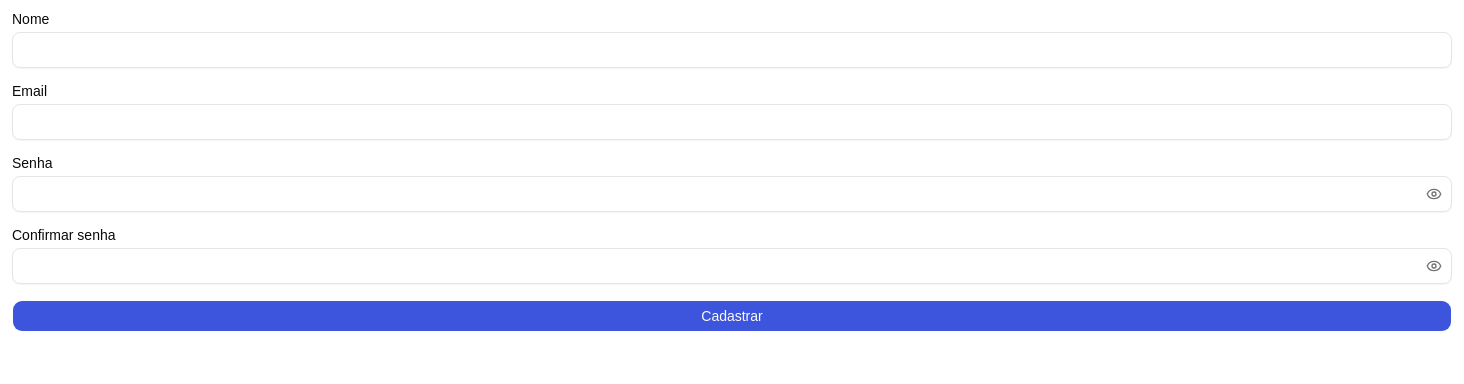
it: SignUpForm › mostra erro quando signUp falha
Type "a@a.com" into the field labelled "Email" at (732, 122), box x1=12 y1=104 x2=1452 y2=140
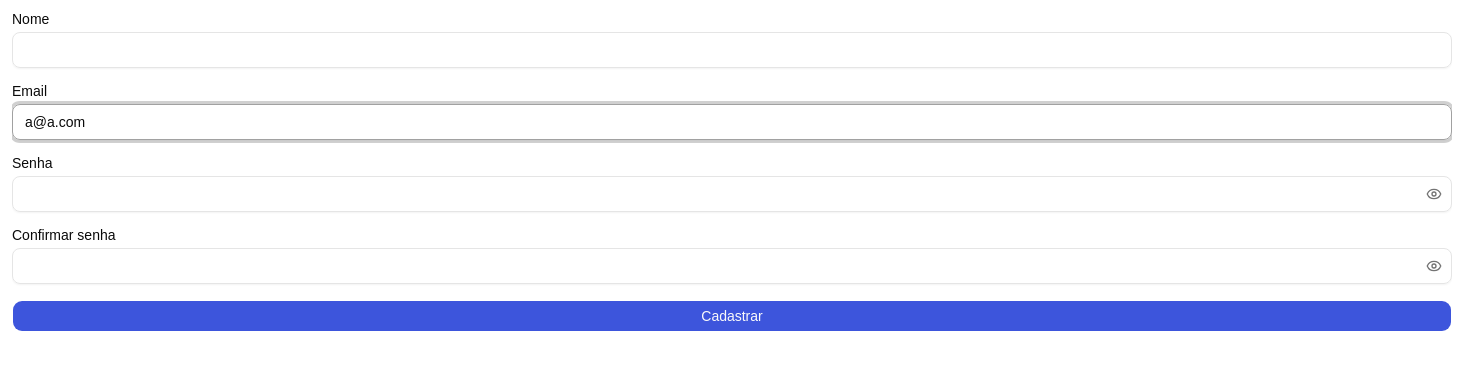
Type "123456" into the password field labelled "Senha" at (732, 194), box x1=12 y1=176 x2=1452 y2=212
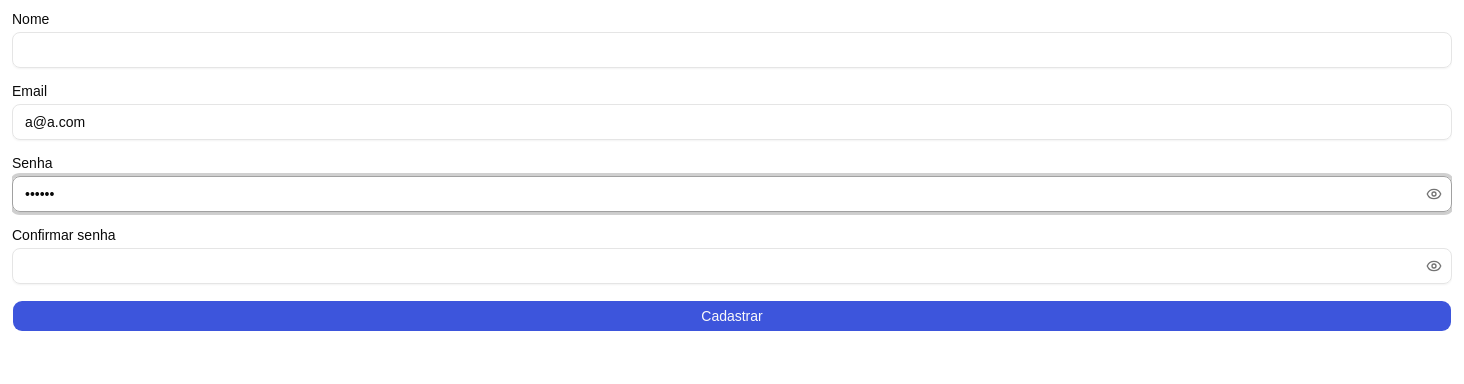
Type "123456" into the password field labelled "Confirmar senha" at (732, 266), box x1=12 y1=248 x2=1452 y2=284
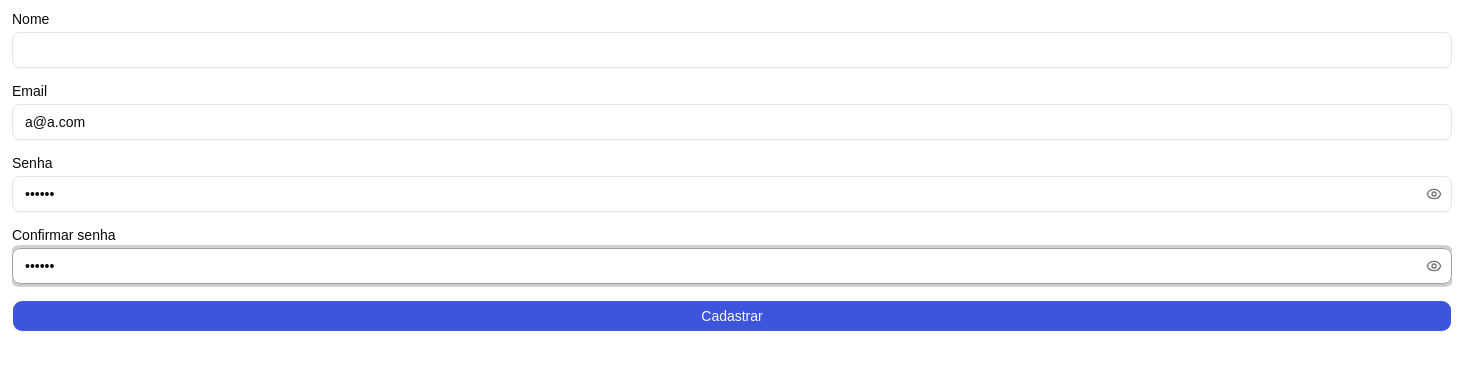
Click the button "Cadastrar" at (732, 316), box x1=12 y1=300 x2=1452 y2=332
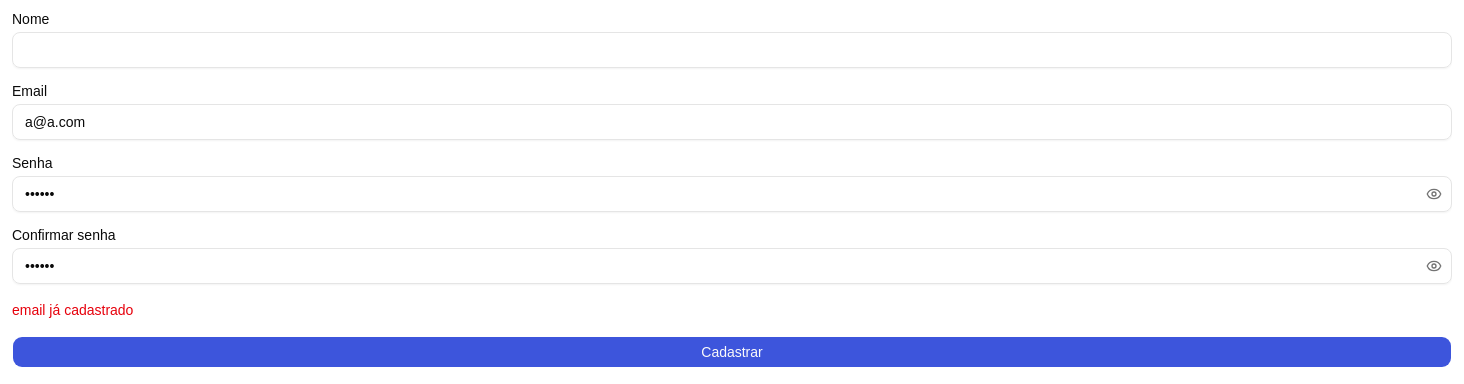
Expected: the message reads "email já cadastrado", x1=12 y1=302 x2=133 y2=318
